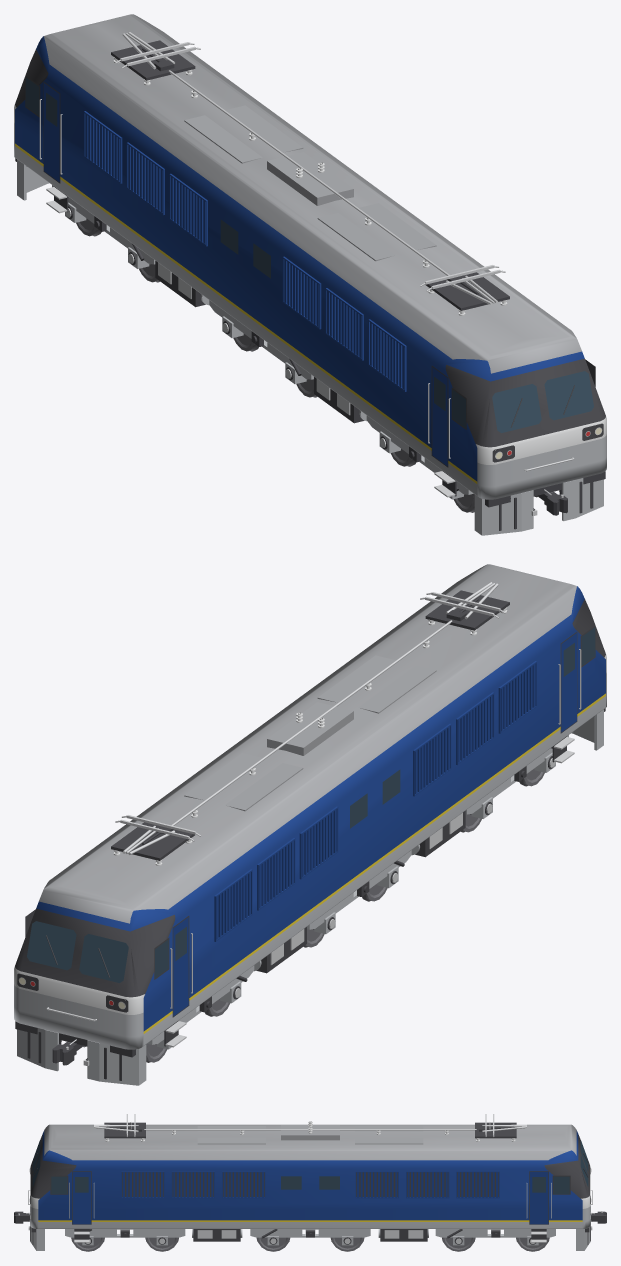
The model's file is 0_close.fbx.
3 renders of one model, top to bottom at view 1: azimuth 30°, elevation 25°; view 2: azimuth 150°, elevation 25°; view 3: azimuth 270°, elevation 25°, orthographic. The views are drawn at different scales.
Parts seen in each view (by area): view 1: 22_0_close; view 2: 22_0_close; view 3: 22_0_close.
Part boxes in pixels (x1,y1,x2,y2): 22_0_close: (14, 14, 606, 535); 22_0_close: (14, 564, 606, 1085); 22_0_close: (14, 1114, 606, 1251).
Size of the model in its own units: 3.03 by 4.39 by 20.
